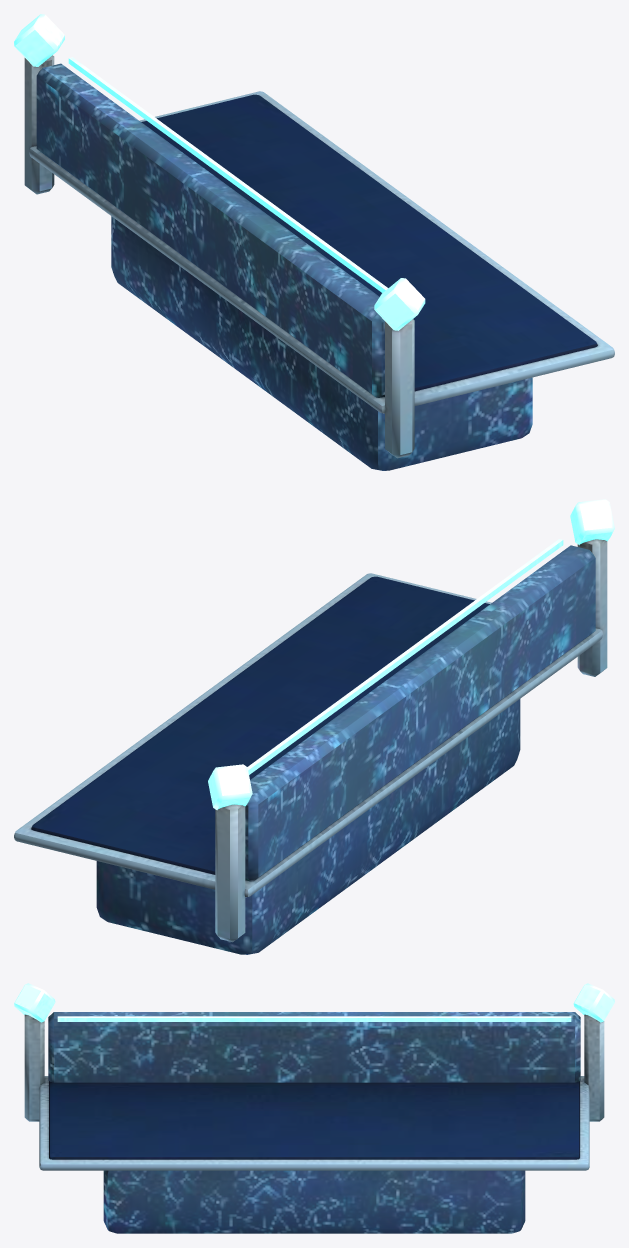
Rendered from console_frost.glb.
The picture shows the model from 3 angles, top to bottom: view 1: azimuth 30°, elevation 25°; view 2: azimuth 150°, elevation 25°; view 3: azimuth 270°, elevation 25°; orthographic projection. The views are drawn at different scales.
Visible parts, largest first — view 1: console_frost; view 2: console_frost; view 3: console_frost.
Part boxes in pixels (x1,y1,x2,y2): console_frost: (14,14,614,470); console_frost: (14,499,614,954); console_frost: (14,983,614,1233).
Bounding box in the file's own units: 2.38 × 2.19 × 6.55.
1 material, 1 textured.
